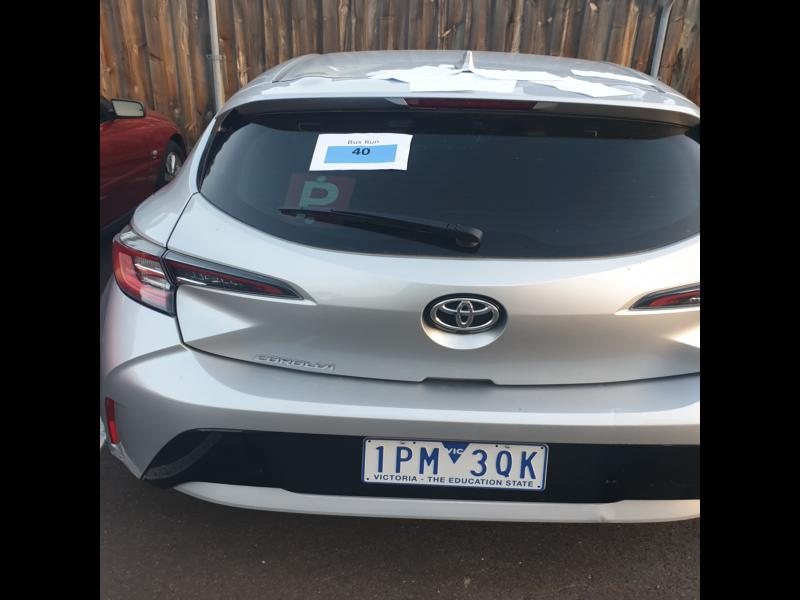BusRun: (326, 145, 397, 163)
PlateNo: (363, 437, 546, 489)
